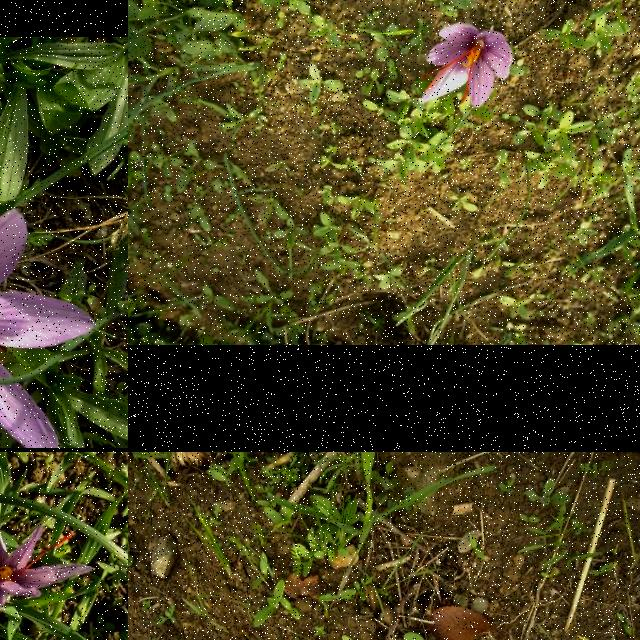flower: (0, 208, 94, 448), (0, 506, 95, 616), (420, 23, 514, 106)
